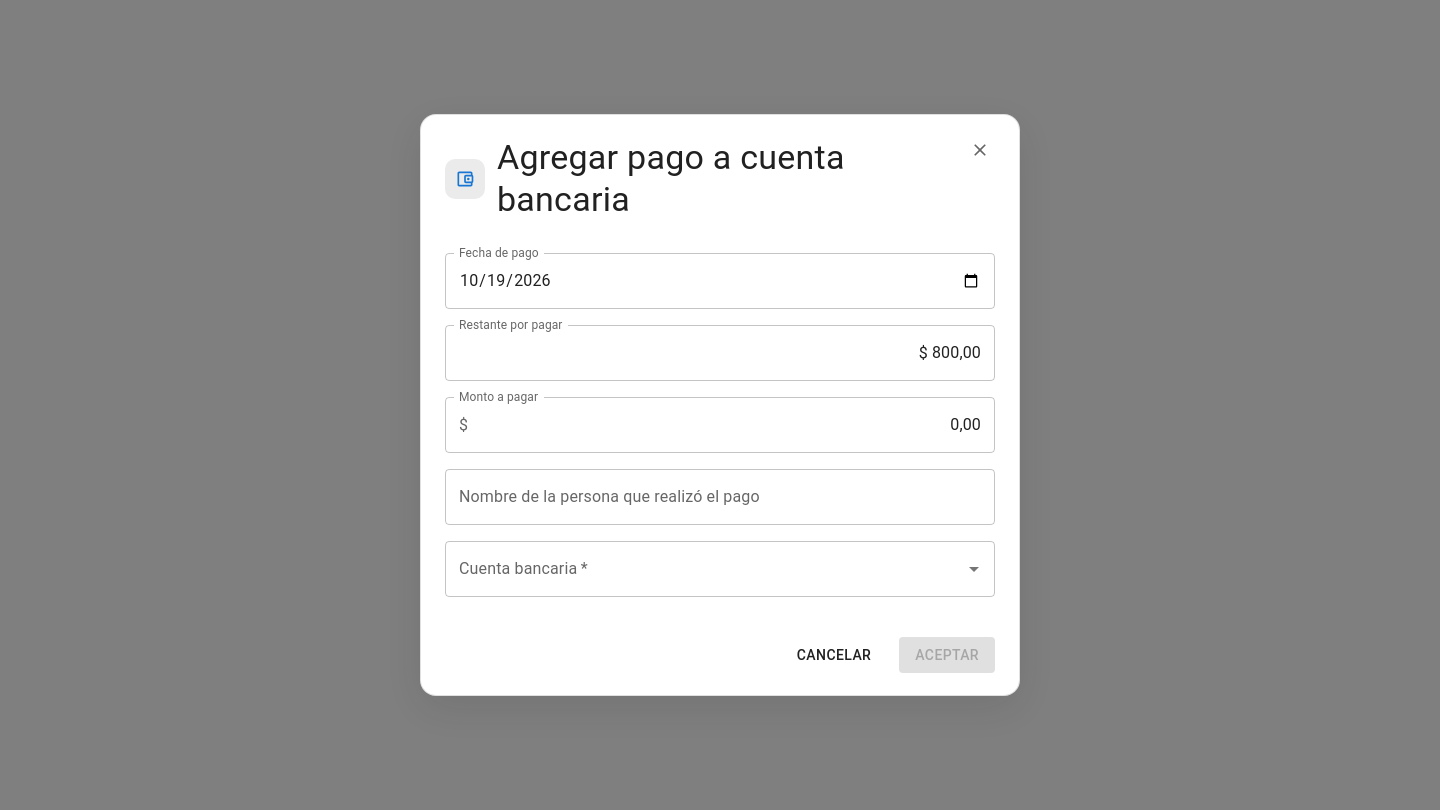
BankPaymentDialog › given bank account selected and valid amount, when clicking Aceptar, then shows confirmation
Click the field labelled "Restante por pagar".
click(720, 353)  # box [445, 325, 995, 381]
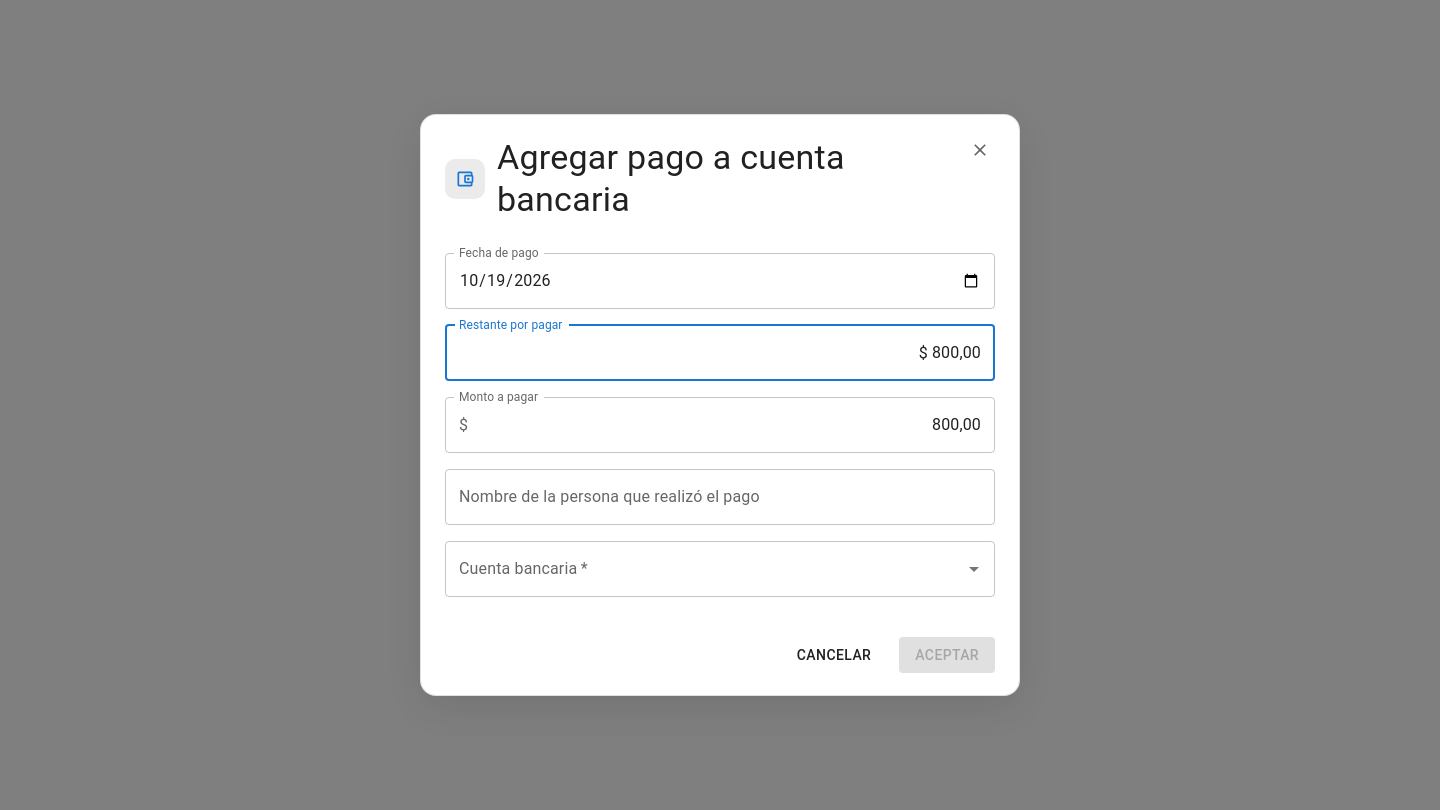
Click the dropdown labelled "Cuenta bancaria *".
click(705, 569)  # box [454, 550, 956, 588]
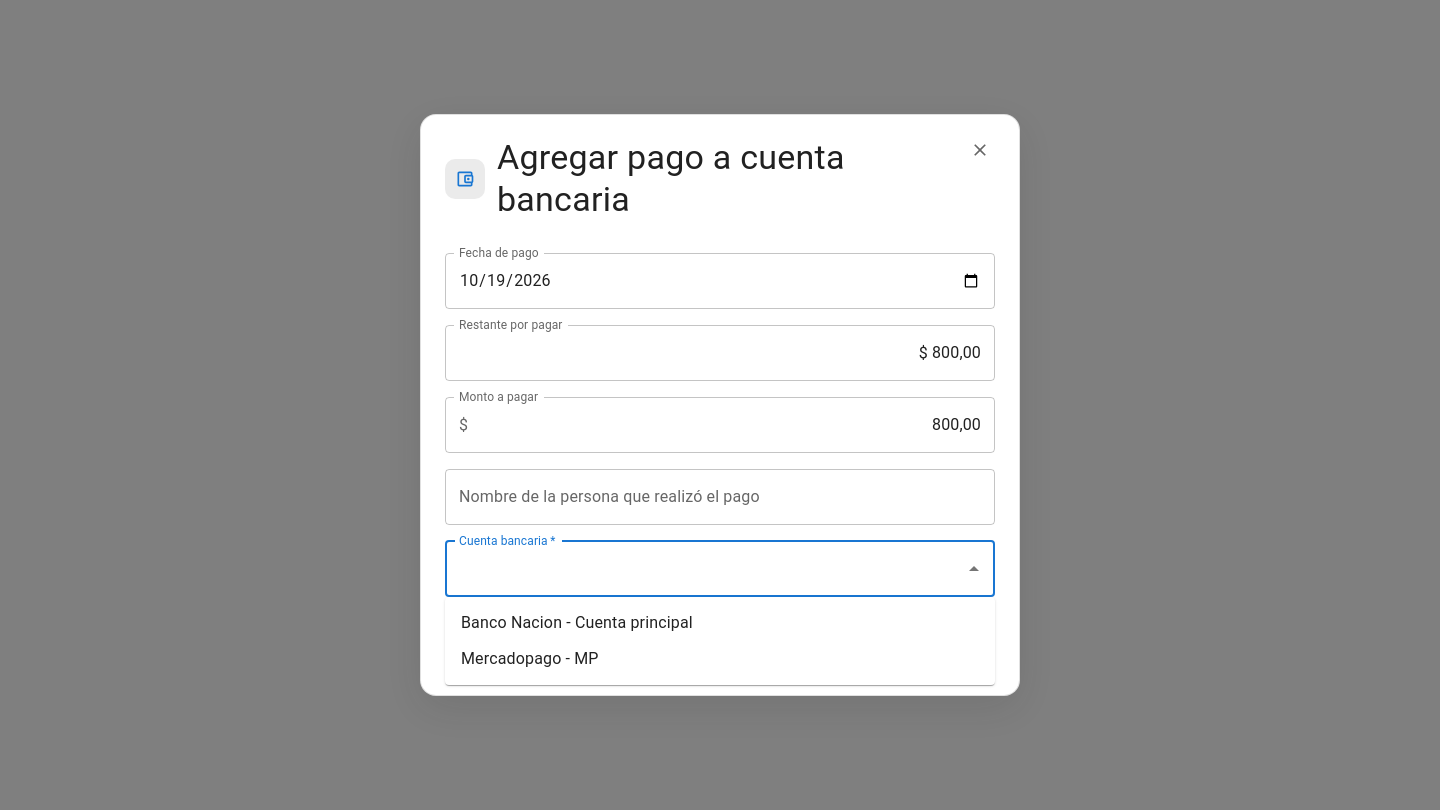
Click the option "Banco Nacion - Cuenta principal".
click(577, 622)  # box [461, 613, 693, 632]
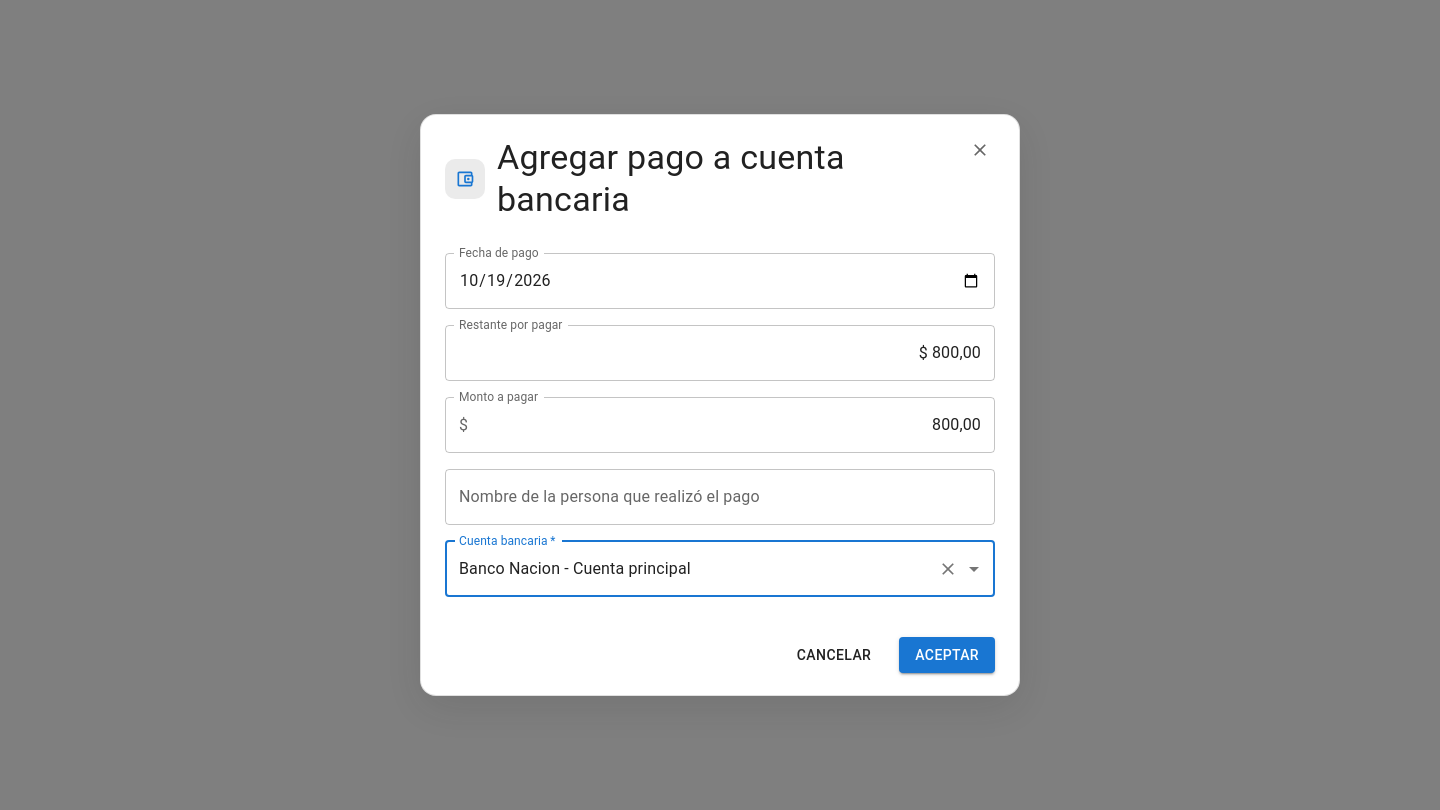
Click the button "Aceptar".
click(947, 655)  # box [899, 637, 995, 673]
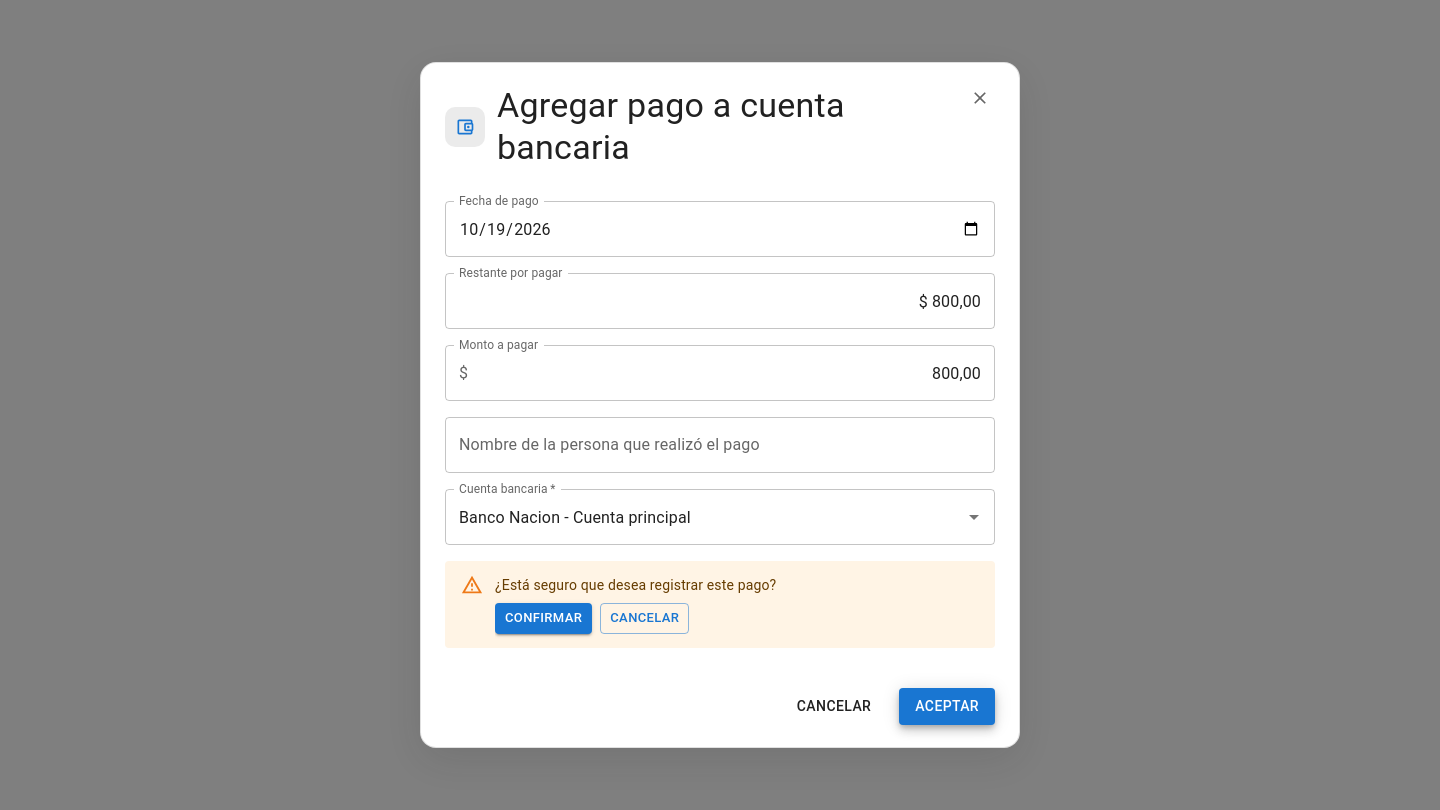
Result: the text "¿Está seguro que desea registrar este pago?" is shown at [495, 567, 776, 642]
